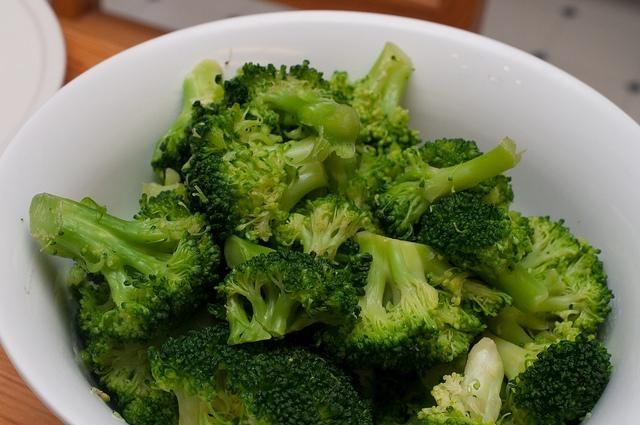broccoli: (310, 230, 517, 375), (29, 190, 221, 339), (181, 102, 329, 244), (366, 136, 528, 240), (416, 192, 550, 314), (213, 250, 363, 345), (222, 57, 360, 158), (480, 330, 611, 425), (225, 346, 374, 425), (152, 62, 248, 182), (319, 41, 422, 150), (148, 325, 254, 425), (224, 236, 374, 296), (275, 194, 386, 266), (417, 337, 505, 425), (90, 336, 166, 407), (536, 278, 615, 334), (520, 216, 588, 277)
